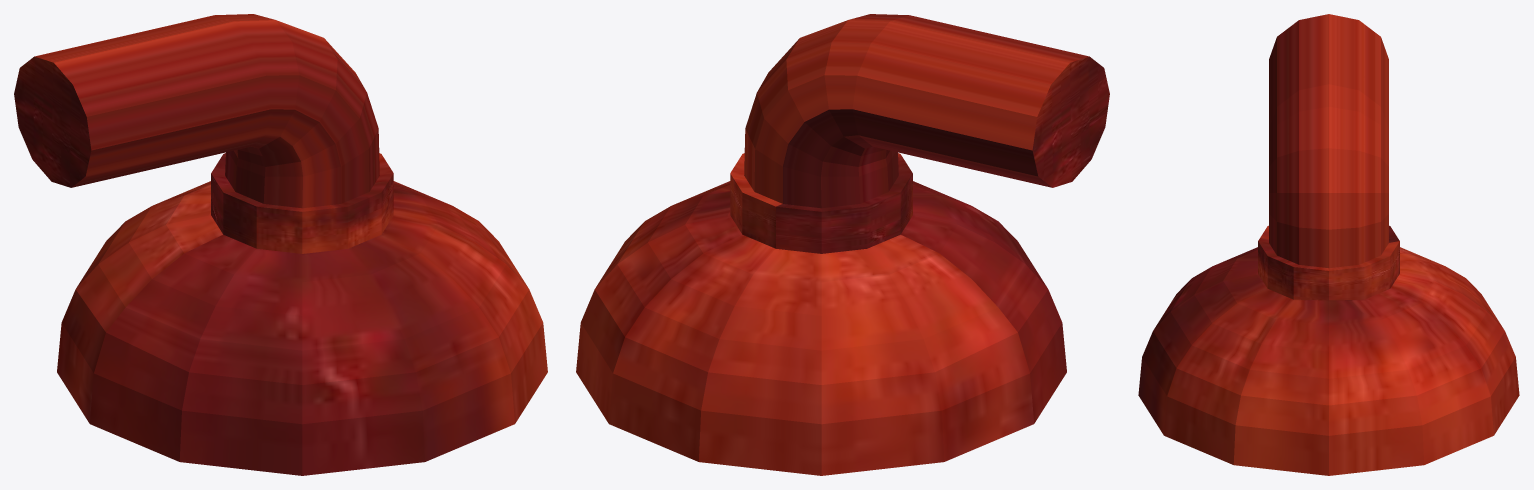
The model's file is lamparamina.fbx.
3 views of the same model, side by side, from view 1: azimuth 30°, elevation 25°; view 2: azimuth 150°, elevation 25°; view 3: azimuth 270°, elevation 25° (orthographic). The views are drawn at different scales.
Visible parts, largest first — view 1: Cylinder; view 2: Cylinder; view 3: Cylinder.
Boxes of the visible parts, <box> form: Cylinder: <box>14,14,547,475</box>; Cylinder: <box>576,14,1109,475</box>; Cylinder: <box>1138,14,1519,475</box>.
Size of the model in its own units: 383 by 293 by 352.
